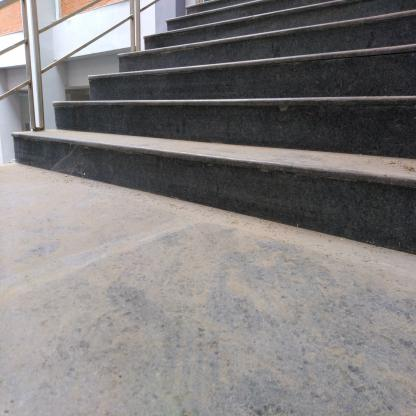stairs: (147, 34, 416, 228)
